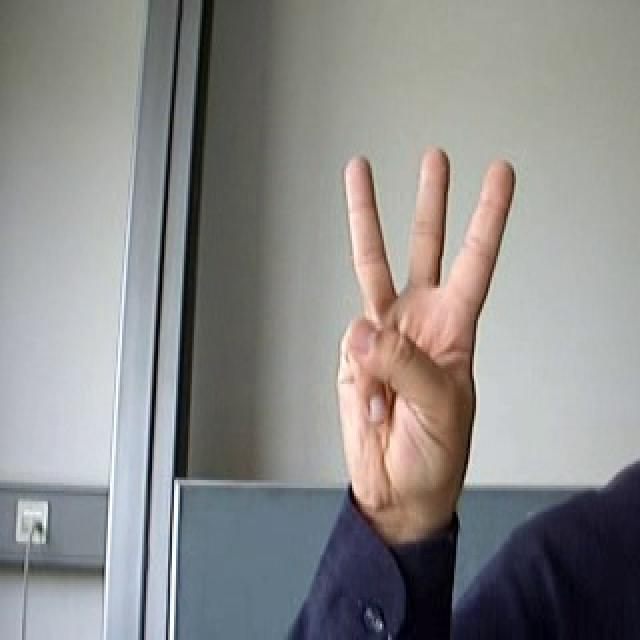W: (318, 141, 528, 510)
